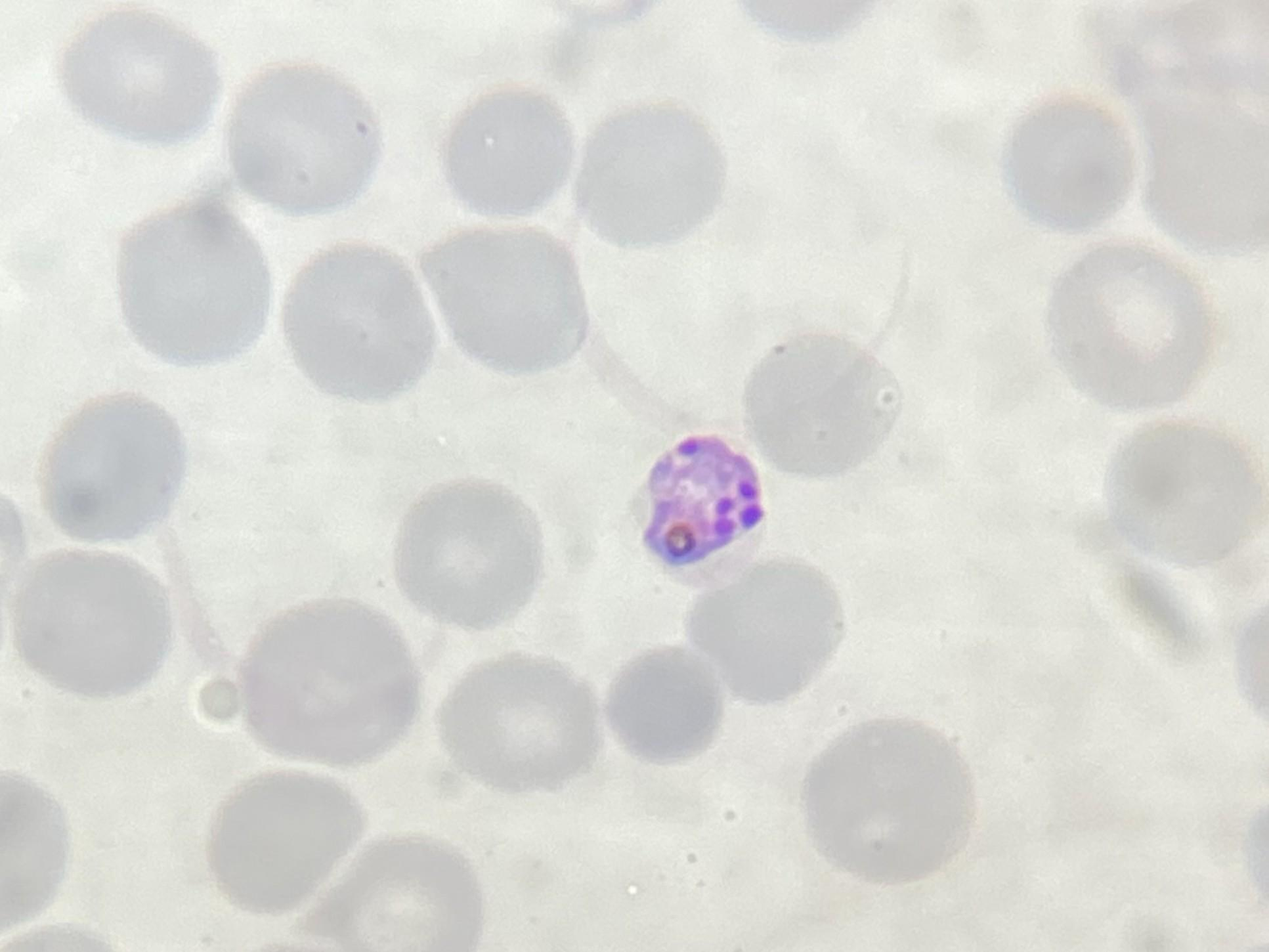Infected: (499, 355, 643, 518)
Uninfected: (847, 191, 1017, 354), (298, 66, 460, 233), (411, 250, 591, 398), (998, 583, 1147, 761), (57, 539, 214, 704), (363, 465, 524, 621), (538, 694, 693, 853), (683, 572, 843, 722), (882, 732, 1039, 884), (1099, 250, 1258, 398), (729, 320, 875, 480), (834, 550, 982, 706), (1044, 806, 1209, 945), (902, 38, 1064, 176), (670, 158, 830, 297), (1074, 408, 1224, 553), (9, 386, 162, 525), (694, 723, 827, 869), (790, 1, 960, 109), (131, 723, 266, 849), (543, 185, 656, 307)
